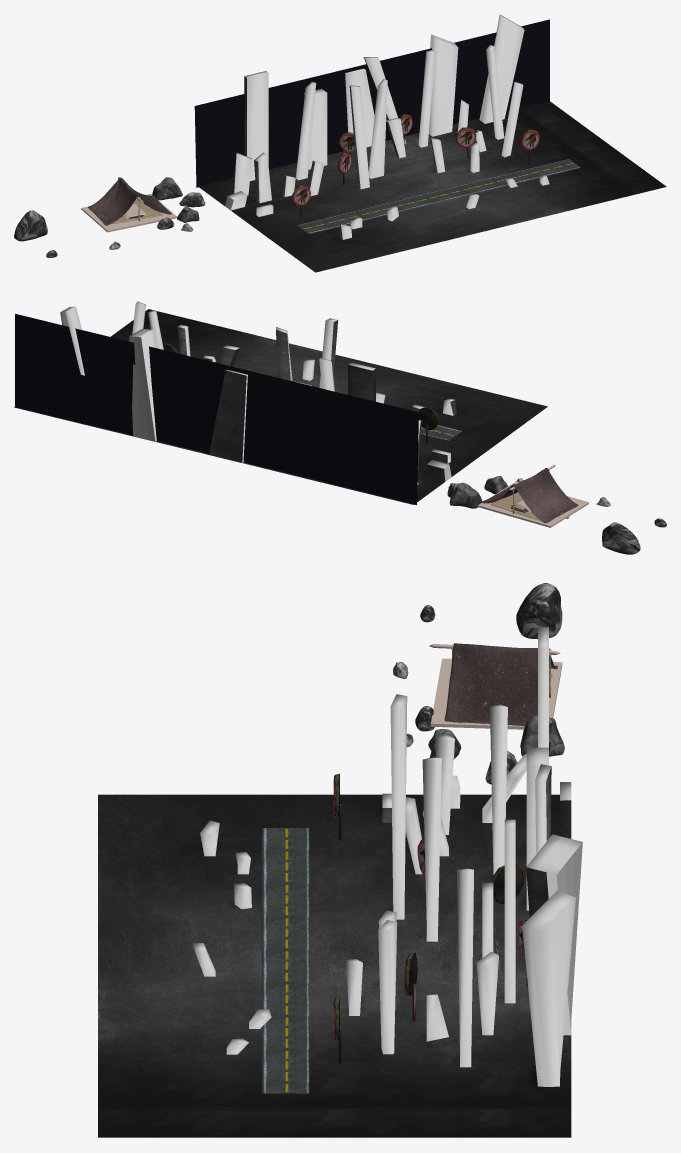
3 views of the same model, one above another, from view 1: azimuth 30°, elevation 25°; view 2: azimuth 150°, elevation 25°; view 3: azimuth 270°, elevation 25° (orthographic). The views are drawn at different scales.
Parts seen in each view (by area): view 1: 地面-禁区, 立面-禁区, 马路, Bedding, 禁止sign, Rock_Red.002, Rock_Green.001; view 2: 立面-禁区, 地面-禁区, Bedding, Rock_Red.002, Rock_Green.001, 禁止sign; view 3: 地面-禁区, 马路, Bedding, 禁止sign, Rock_Red.002, Rock_Green.001.
Boxes of the visible parts, bbox=[...] form: 地面-禁区: bbox=[198, 14, 666, 272]; 立面-禁区: bbox=[194, 19, 549, 187]; 马路: bbox=[297, 159, 580, 233]; Bedding: bbox=[81, 177, 177, 232]; 禁止sign: bbox=[292, 114, 539, 217]; Rock_Red.002: bbox=[14, 210, 47, 241]; Rock_Green.001: bbox=[152, 177, 182, 200]; 立面-禁区: bbox=[15, 313, 418, 505]; 地面-禁区: bbox=[14, 301, 547, 504]; Bedding: bbox=[477, 464, 588, 527]; Rock_Red.002: bbox=[602, 522, 640, 554]; Rock_Green.001: bbox=[449, 482, 482, 508]; 禁止sign: bbox=[163, 343, 438, 444]; 地面-禁区: bbox=[98, 627, 582, 1137]; 马路: bbox=[262, 828, 309, 1093]; Bedding: bbox=[429, 643, 562, 729]; 禁止sign: bbox=[333, 773, 527, 1063]; Rock_Red.002: bbox=[516, 583, 562, 638]; Rock_Green.001: bbox=[520, 715, 564, 756].
Bounding box in the file's own units: 347 × 64.5 × 134.
